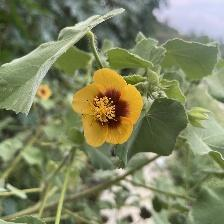indian mallow: (71, 68, 146, 150)
